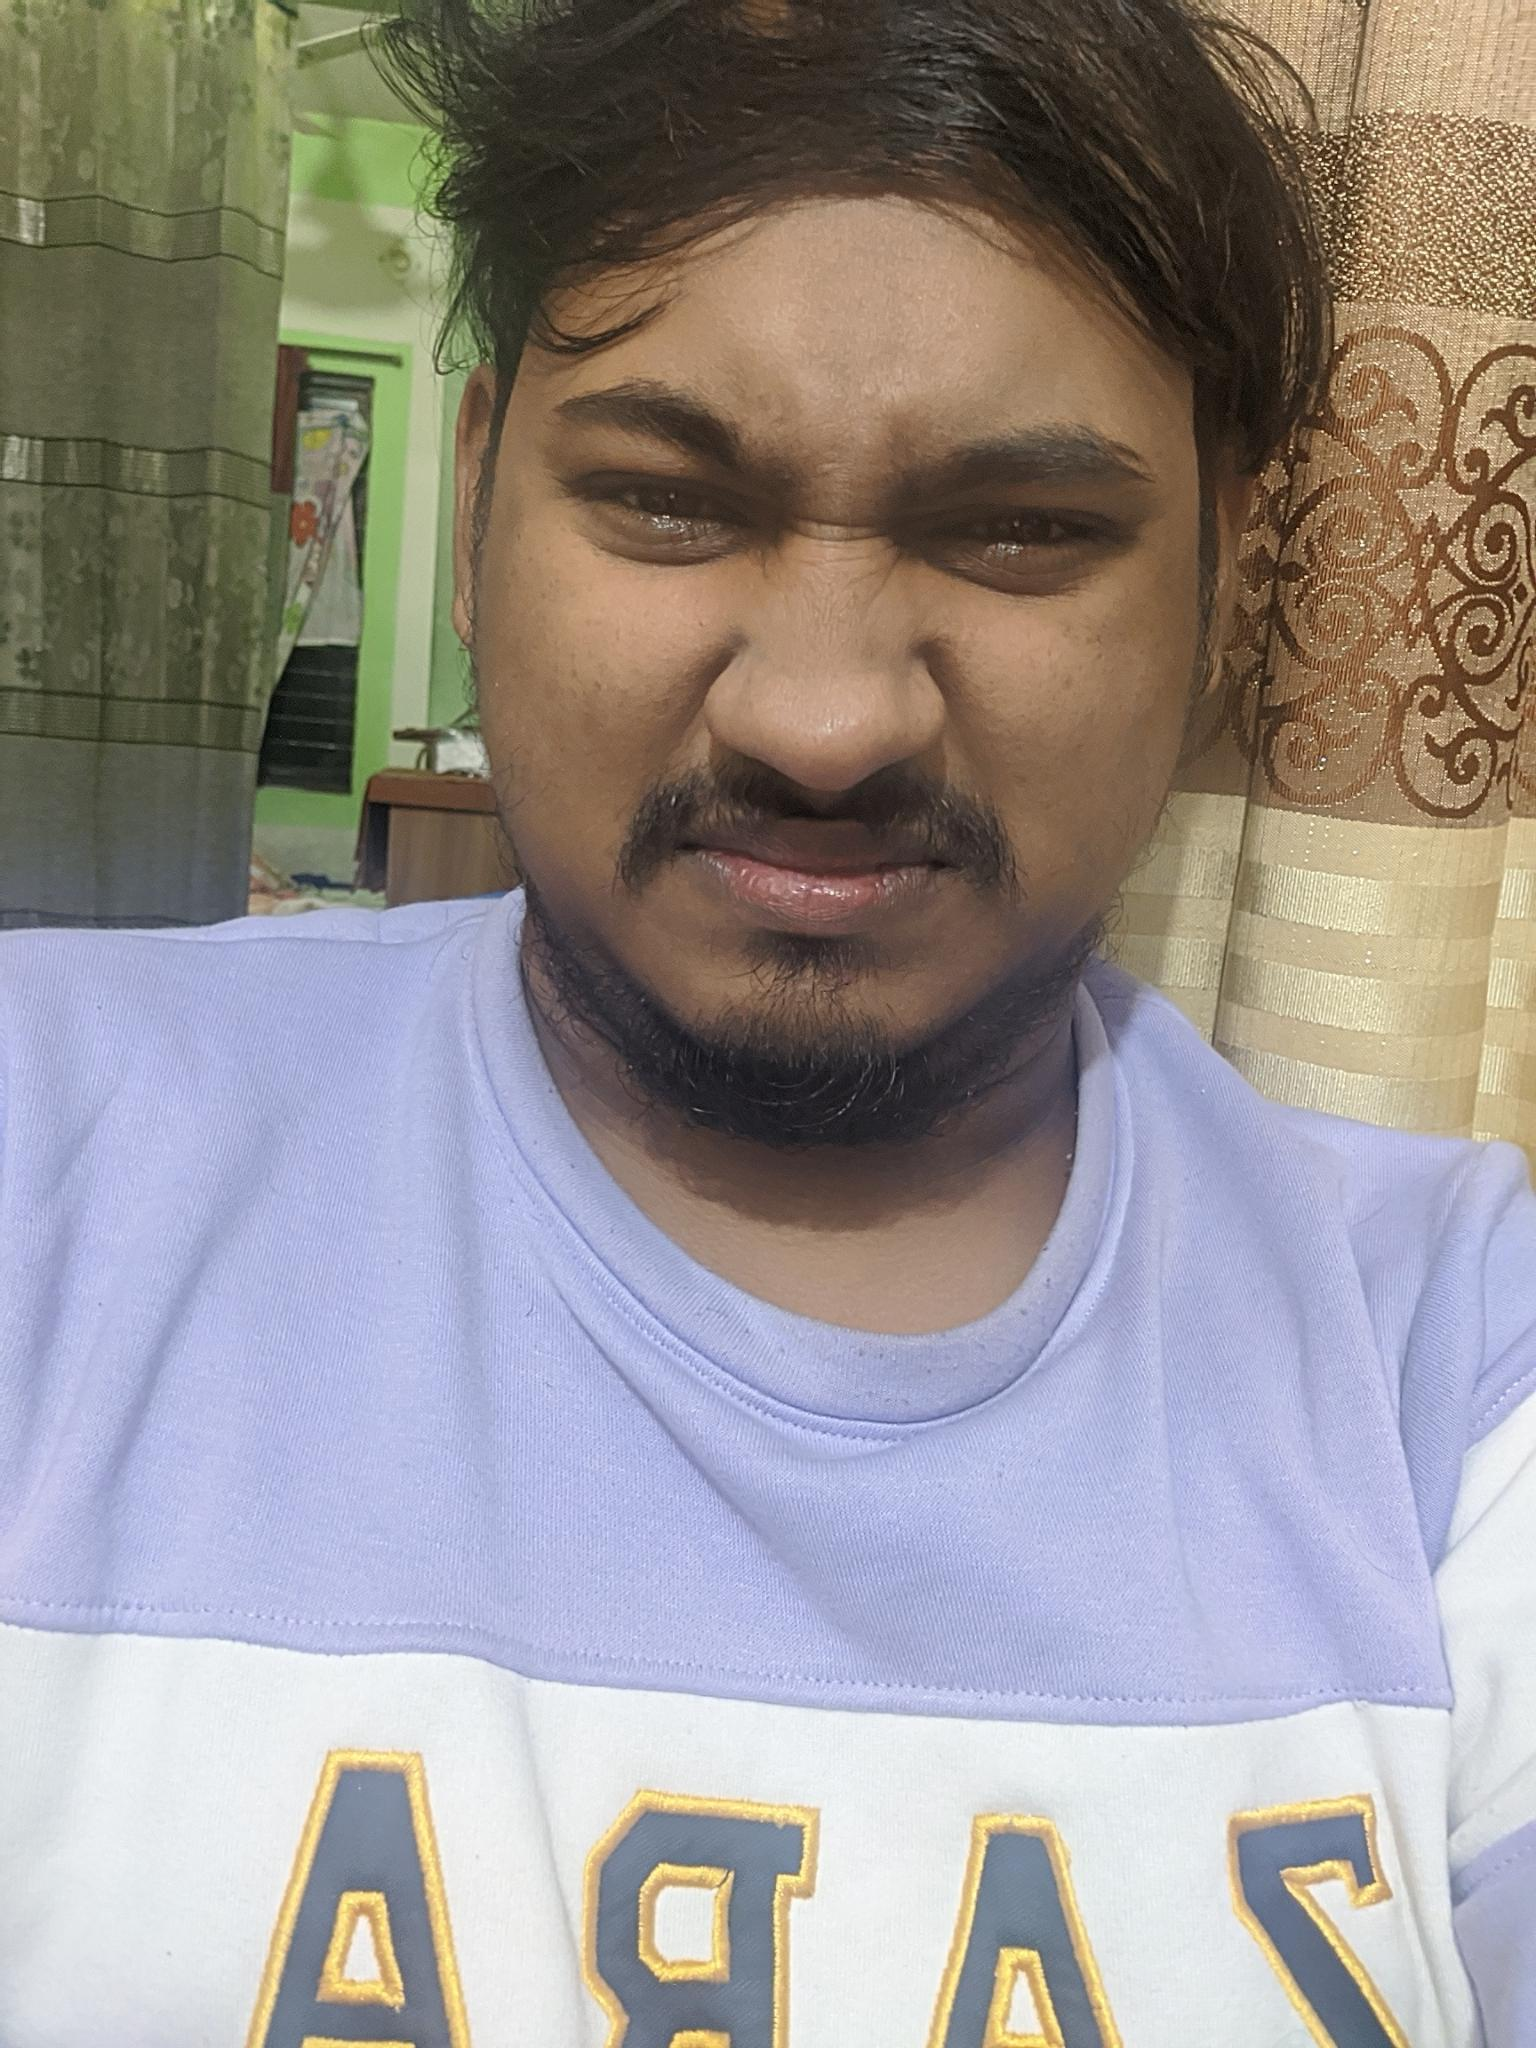Disgust: (495, 284, 1205, 1084)
